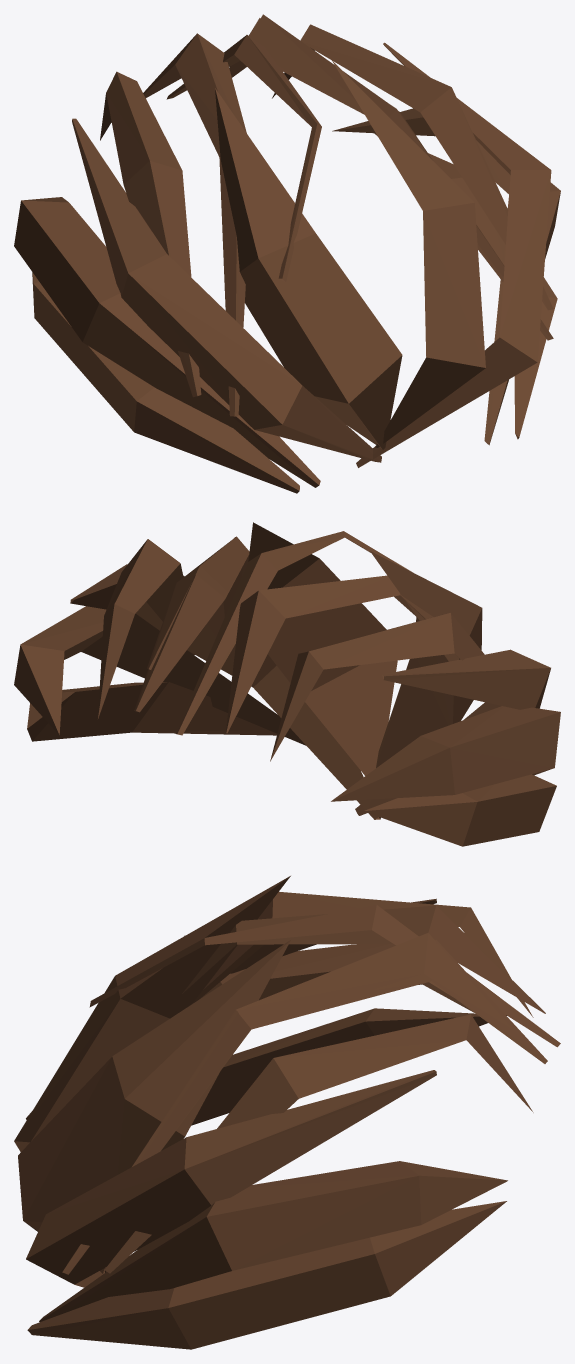
Rendered from PeinadoEtapa2.fbx.
The picture shows the model from 3 angles, top to bottom: view 1: azimuth 30°, elevation 25°; view 2: azimuth 150°, elevation 25°; view 3: azimuth 270°, elevation 25°; orthographic projection. The views are drawn at different scales.
Parts seen in each view (by area): view 1: PeinadoEtapa2; view 2: PeinadoEtapa2; view 3: PeinadoEtapa2.
Part boxes in pixels (x1,y1,x2,y2): PeinadoEtapa2: (14,14,560,493); PeinadoEtapa2: (14,522,560,846); PeinadoEtapa2: (14,876,560,1349).
Size of the model in its own units: 1.24 by 0.874 by 1.1.
